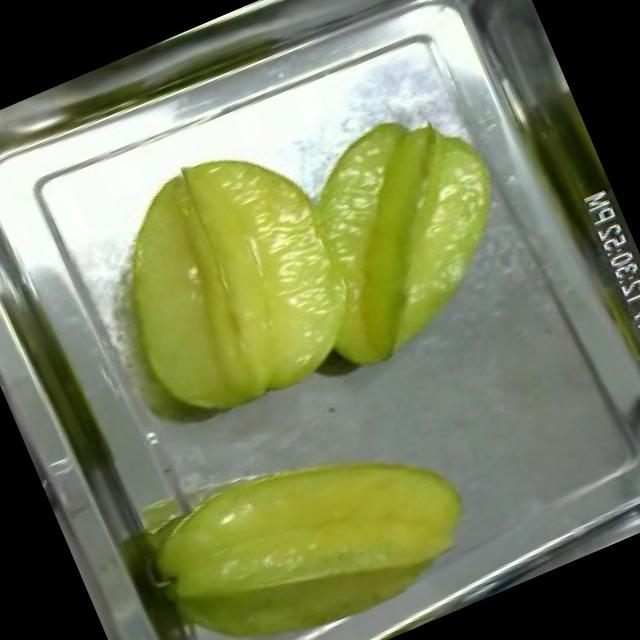fruit: (62, 113, 390, 453), (111, 385, 504, 640), (275, 80, 552, 380)
